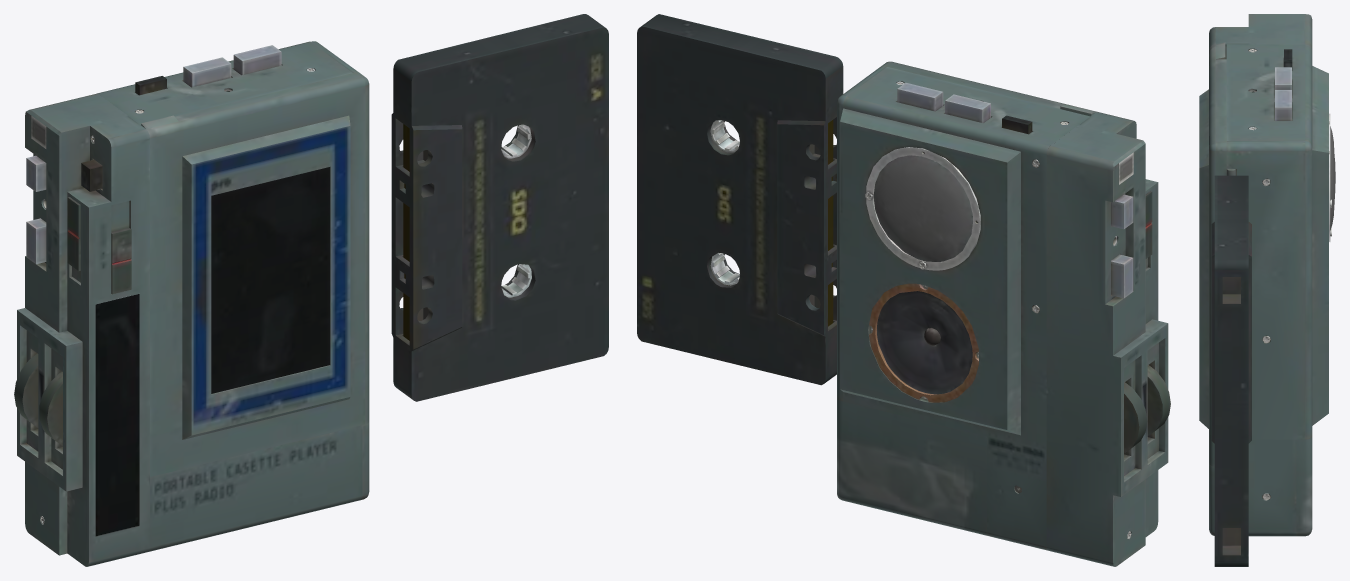
File: portable_cassette_player.glb
The picture shows the model from 3 angles, left to right: view 1: azimuth 30°, elevation 25°; view 2: azimuth 150°, elevation 25°; view 3: azimuth 270°, elevation 25°; orthographic projection. The views are drawn at different scales.
Parts seen in each view (by area): view 1: portable_cassette_player_lid; view 2: portable_cassette_player_lid; view 3: portable_cassette_player_lid.
Boxes of the visible parts, box(x1,y1,x2,y2) form: portable_cassette_player_lid: box(14, 14, 608, 566); portable_cassette_player_lid: box(637, 14, 1170, 566); portable_cassette_player_lid: box(1199, 14, 1335, 566).
Bounding box in the file's own units: 0.1723 × 0.1303 × 0.0397.
2 materials, 2 textured.
